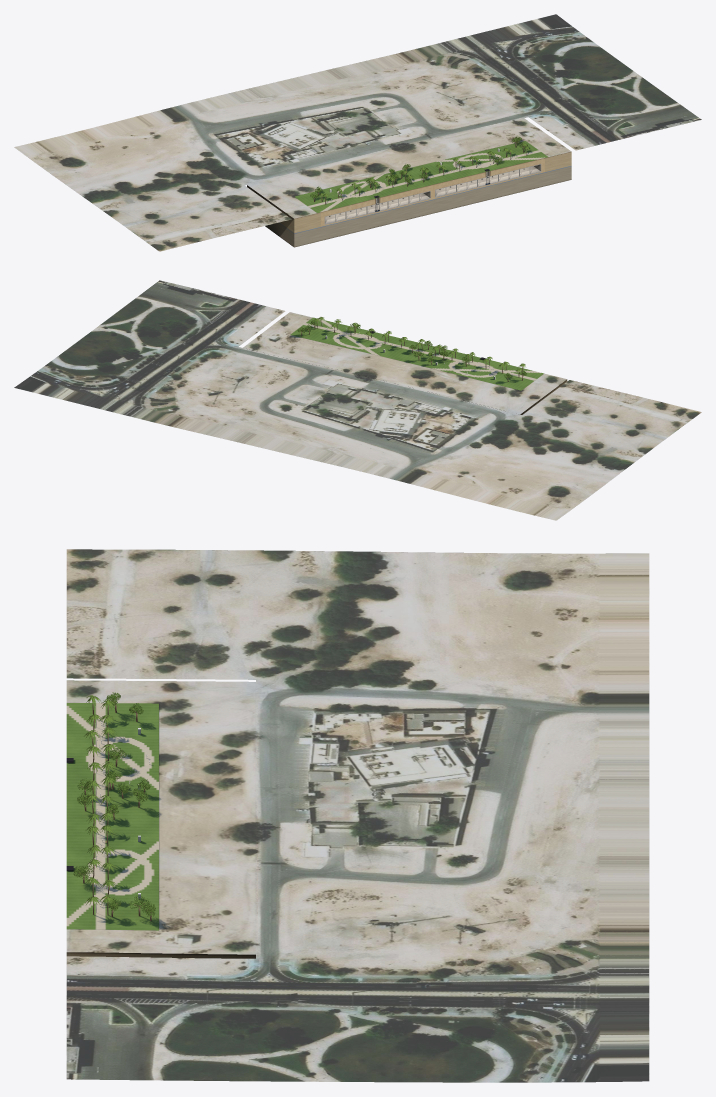
The picture shows the model from 3 angles, top to bottom: view 1: azimuth 30°, elevation 25°; view 2: azimuth 150°, elevation 25°; view 3: azimuth 270°, elevation 25°; orthographic projection. The views are drawn at different scales.
Visible parts, largest first — view 1: WEB_Ground, WEB_Tanks, WEB_Park_Fronds, WEB_Park_Canopy; view 2: WEB_Ground, WEB_Tanks, WEB_Park_Fronds, WEB_Park_Canopy; view 3: WEB_Ground, WEB_Tanks, WEB_Park_Fronds, WEB_Park_Canopy, WEB_Park_Trunks.
Part boxes in pixels (x1,y1,x2,y2): WEB_Ground: [14, 14, 701, 251]; WEB_Tanks: [247, 118, 571, 247]; WEB_Park_Fronds: [318, 143, 530, 197]; WEB_Park_Canopy: [310, 135, 527, 198]; WEB_Ground: [14, 280, 701, 520]; WEB_Tanks: [243, 312, 567, 414]; WEB_Park_Fronds: [314, 317, 525, 372]; WEB_Park_Canopy: [297, 319, 526, 378]; WEB_Ground: [66, 549, 649, 1082]; WEB_Tanks: [66, 680, 255, 958]; WEB_Park_Fronds: [84, 695, 116, 905]; WEB_Park_Canopy: [73, 692, 155, 917]; WEB_Park_Trunks: [79, 697, 151, 921].
Bounding box in the file's own units: 516 × 36.26 × 240.
Materials: 7 (2 with a texture image).
